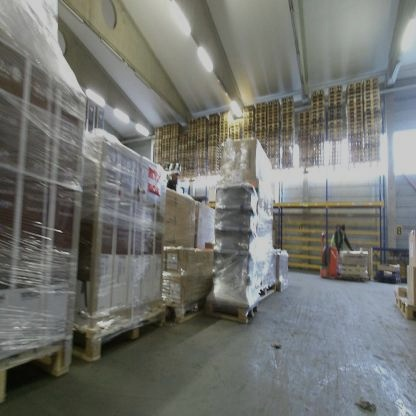pallets: (0, 331, 71, 413), (70, 307, 169, 363), (344, 74, 380, 168), (309, 82, 341, 171), (255, 99, 295, 169), (206, 297, 259, 325), (161, 298, 204, 325), (204, 112, 221, 173), (191, 117, 206, 171), (298, 111, 311, 169), (394, 292, 416, 324), (184, 118, 197, 172), (165, 123, 179, 170), (245, 281, 277, 301), (218, 111, 232, 145), (176, 135, 188, 172), (243, 102, 254, 141), (152, 127, 162, 164), (229, 119, 242, 139)
